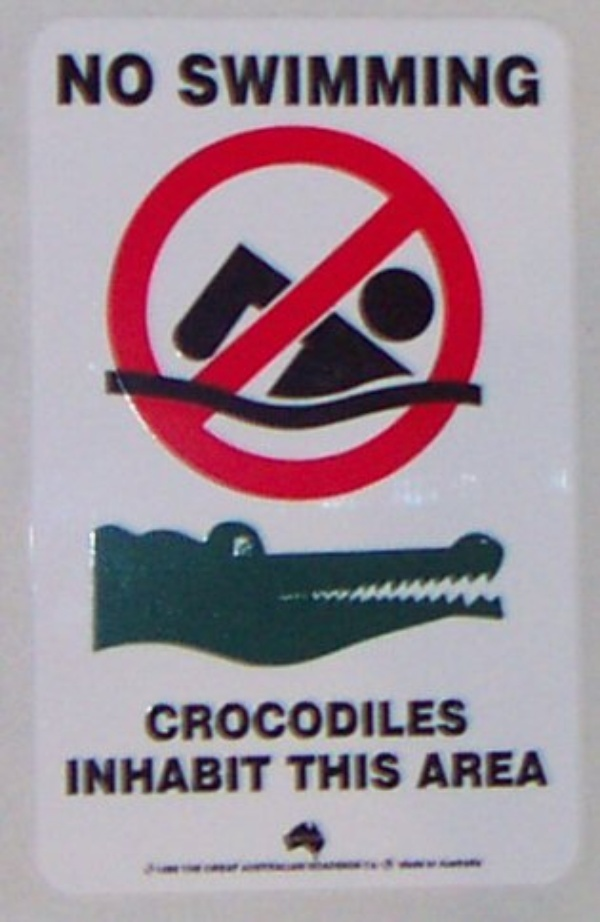text: (65, 52, 80, 107), (81, 52, 96, 107), (97, 52, 112, 107), (113, 52, 128, 107), (129, 52, 144, 107), (177, 52, 192, 107), (193, 52, 208, 107), (209, 52, 224, 107), (225, 52, 240, 107), (241, 52, 256, 107), (257, 52, 272, 107), (273, 52, 288, 107), (289, 52, 304, 107), (305, 52, 320, 107), (321, 52, 336, 107), (337, 52, 352, 107), (353, 52, 368, 107), (369, 52, 384, 107), (385, 52, 400, 107), (401, 52, 416, 107), (417, 52, 432, 107), (433, 52, 448, 107), (449, 52, 464, 107), (465, 52, 480, 107), (481, 52, 496, 107), (497, 52, 512, 107), (513, 52, 528, 107), (145, 696, 160, 745), (161, 696, 176, 745), (177, 696, 192, 745), (193, 696, 208, 745), (209, 696, 224, 745), (225, 696, 240, 745), (241, 696, 256, 745), (257, 696, 272, 745), (273, 696, 288, 745), (289, 696, 304, 745), (305, 696, 320, 745), (321, 696, 336, 745), (337, 696, 352, 745), (353, 696, 368, 745), (369, 696, 384, 745), (385, 696, 400, 745), (401, 696, 416, 745), (417, 696, 432, 745), (433, 696, 448, 745), (449, 696, 464, 745), (257, 755, 273, 797), (529, 52, 541, 107), (65, 755, 80, 797), (81, 755, 96, 797), (97, 755, 112, 797), (113, 755, 128, 797), (129, 755, 144, 797), (145, 755, 160, 797), (161, 755, 176, 797), (177, 755, 192, 797), (193, 755, 208, 797), (209, 755, 224, 797), (225, 755, 240, 797), (241, 755, 256, 797), (289, 751, 304, 793), (305, 751, 320, 793), (321, 751, 336, 793), (337, 751, 352, 793), (353, 751, 368, 793), (369, 751, 384, 793), (385, 751, 400, 793), (417, 749, 432, 791), (433, 749, 448, 791), (449, 749, 464, 791), (465, 749, 480, 791), (481, 749, 496, 791), (497, 749, 512, 791), (513, 749, 528, 791), (529, 749, 544, 791), (54, 52, 64, 107), (145, 52, 155, 107), (145, 856, 160, 877), (161, 856, 176, 877), (177, 856, 192, 877), (193, 856, 208, 877), (209, 856, 224, 877), (225, 856, 240, 877), (241, 856, 256, 877), (257, 856, 272, 877), (273, 856, 288, 877), (289, 856, 304, 877), (305, 856, 320, 877), (321, 856, 336, 877), (337, 856, 352, 877), (353, 856, 368, 877), (369, 856, 384, 877), (385, 856, 400, 877), (401, 856, 416, 877), (417, 856, 432, 877), (433, 856, 448, 877), (449, 856, 464, 877), (465, 856, 480, 877), (465, 696, 471, 745), (545, 749, 551, 791), (284, 751, 288, 793), (481, 856, 488, 877), (61, 755, 64, 797), (141, 856, 144, 877), (143, 696, 144, 745), (401, 751, 402, 793)
